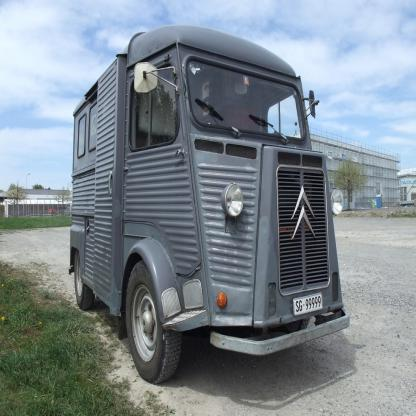Truck: (68, 24, 350, 384)
